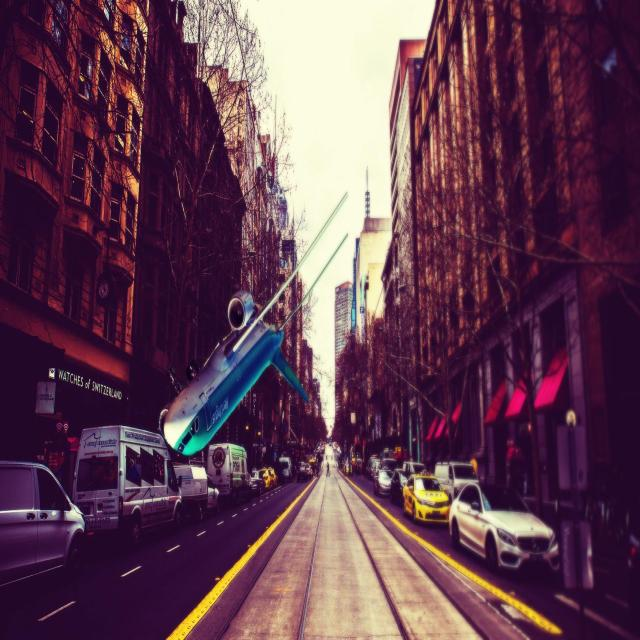airplane: (158, 190, 349, 457)
